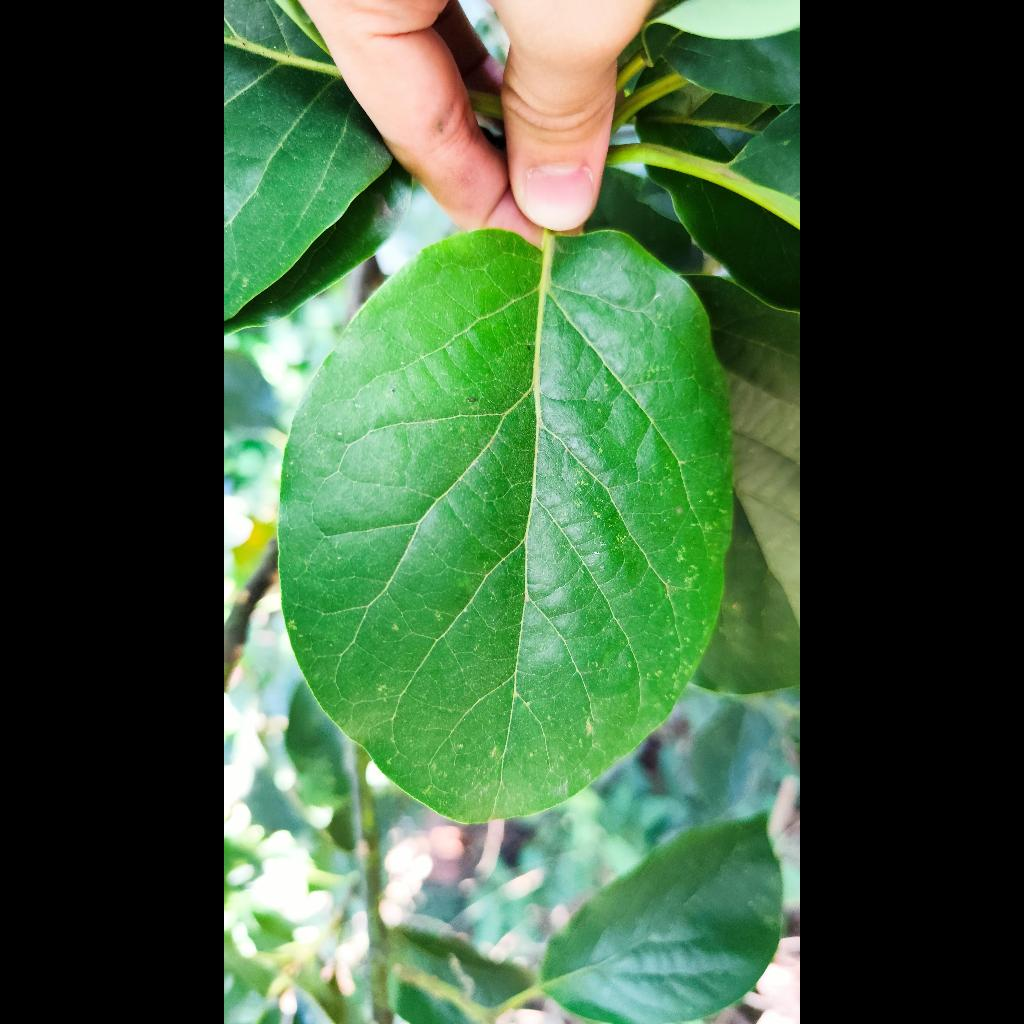Healthy: (280, 231, 731, 822)
